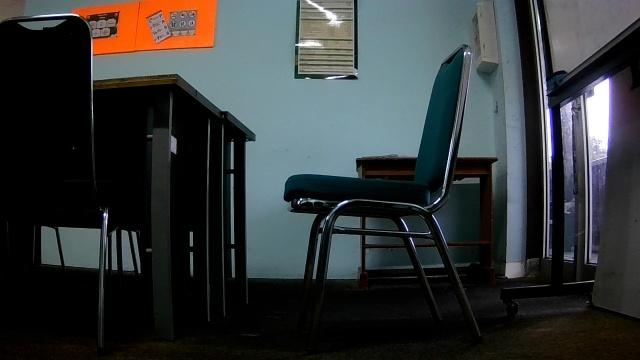Kursi: (282, 42, 479, 356)
